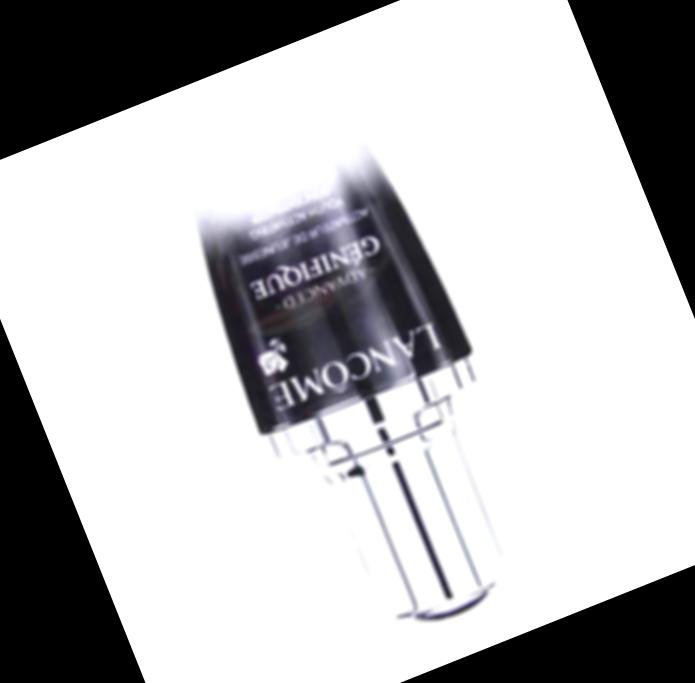cosmetic: (141, 57, 561, 661)
